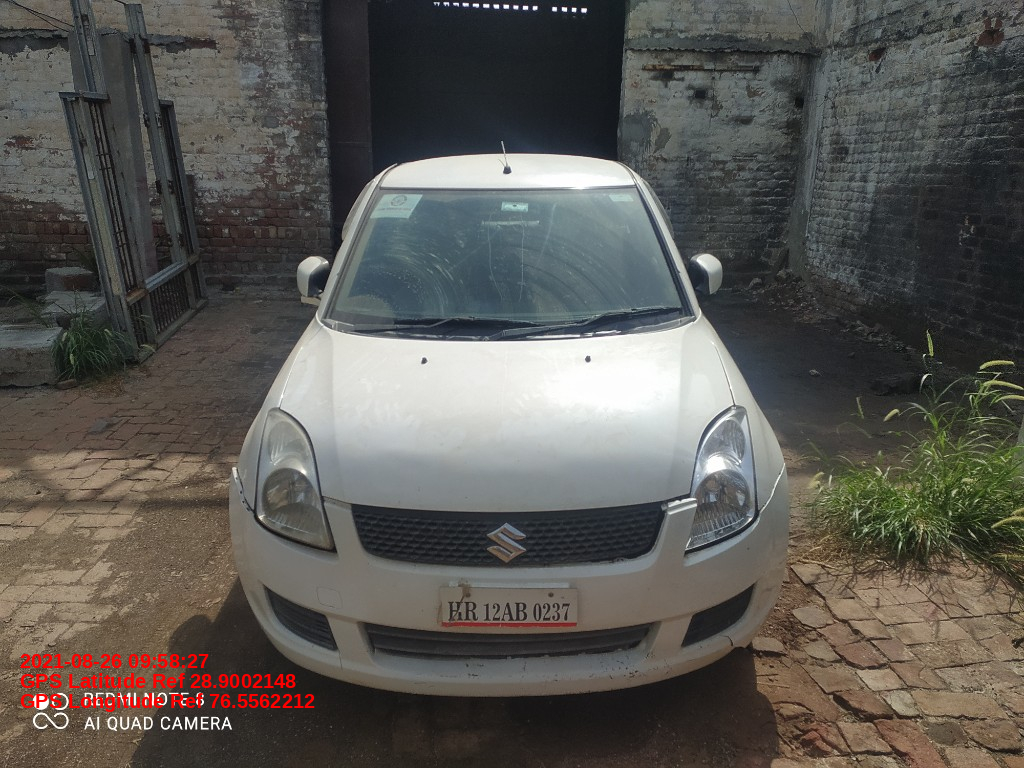Broken: (229, 466, 256, 524), (658, 486, 697, 525)
Cracked: (715, 633, 747, 660)
Scratched: (583, 656, 648, 686), (502, 661, 569, 690), (764, 532, 786, 595), (454, 660, 489, 689)
